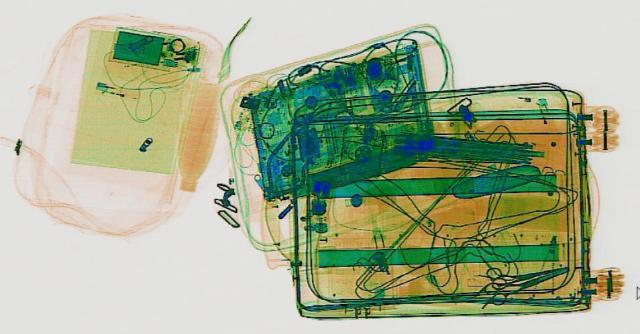Scissors: (468, 260, 578, 304), (478, 253, 572, 287)
